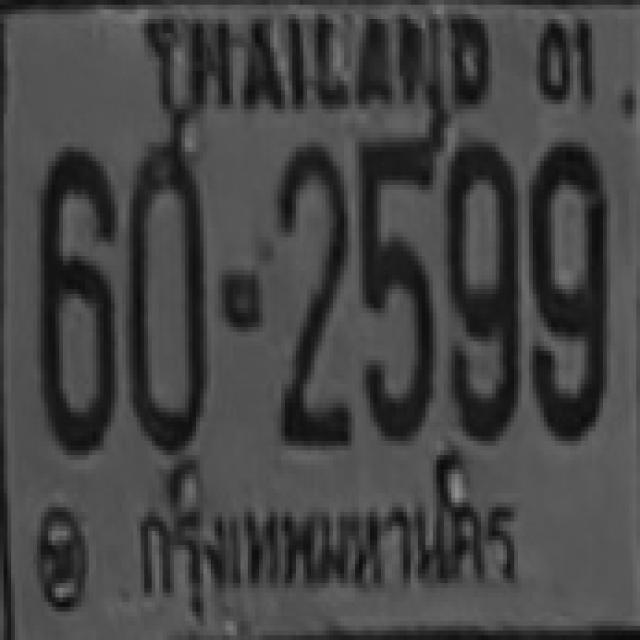0: (126, 142, 203, 450), (444, 138, 514, 322)
2: (276, 140, 350, 391), (276, 202, 350, 444), (278, 218, 352, 441)
5: (357, 135, 435, 311)
9: (527, 147, 605, 436), (444, 144, 518, 438), (527, 171, 605, 436), (444, 176, 518, 436)
Bangkok: (123, 474, 532, 612)
